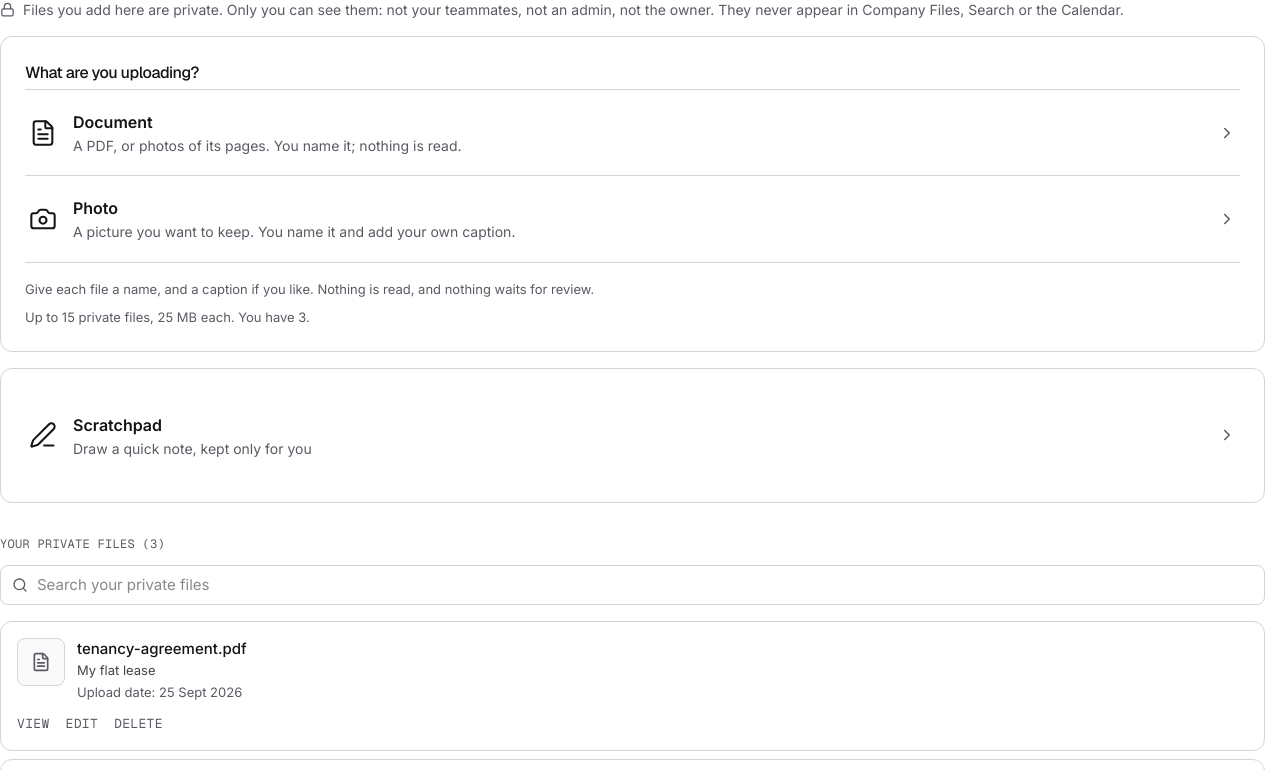
Only me: the files › a refused delete shows the server message and keeps the file in the list
Expected: the text "My flat lease" is shown, [77, 662, 156, 678]
Click the button "Delete": click(138, 724) [114, 714, 163, 734]
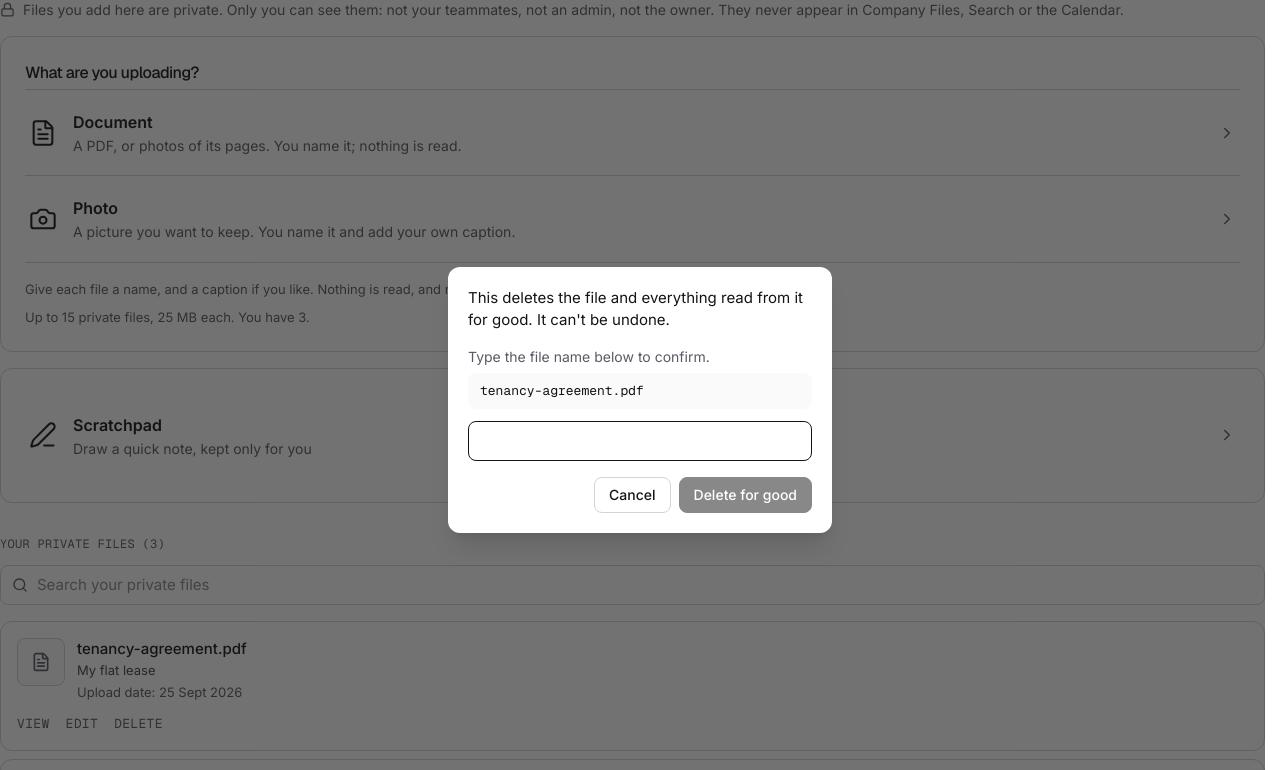
In the field named "File name": (640, 441) [468, 421, 812, 461], type "tenancy-agreement.pdf"
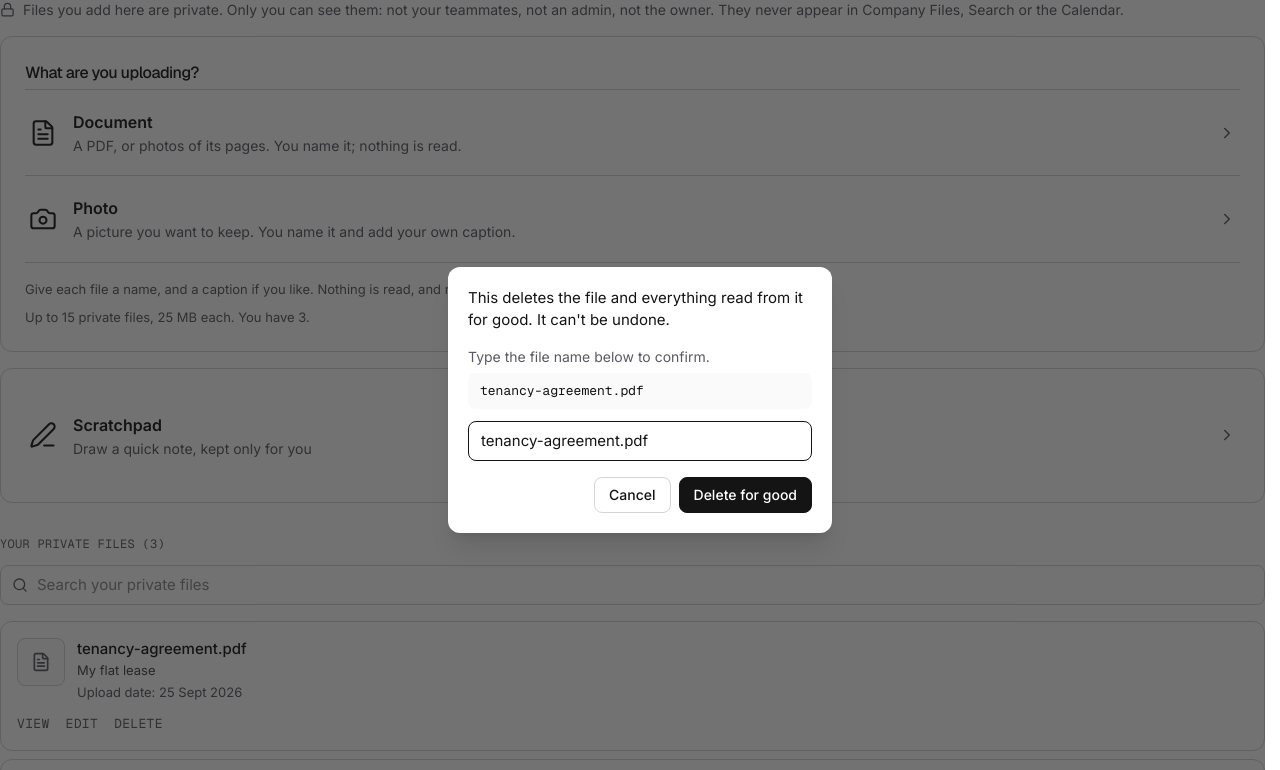
Click the button "Delete for good": click(745, 495) [678, 477, 812, 513]
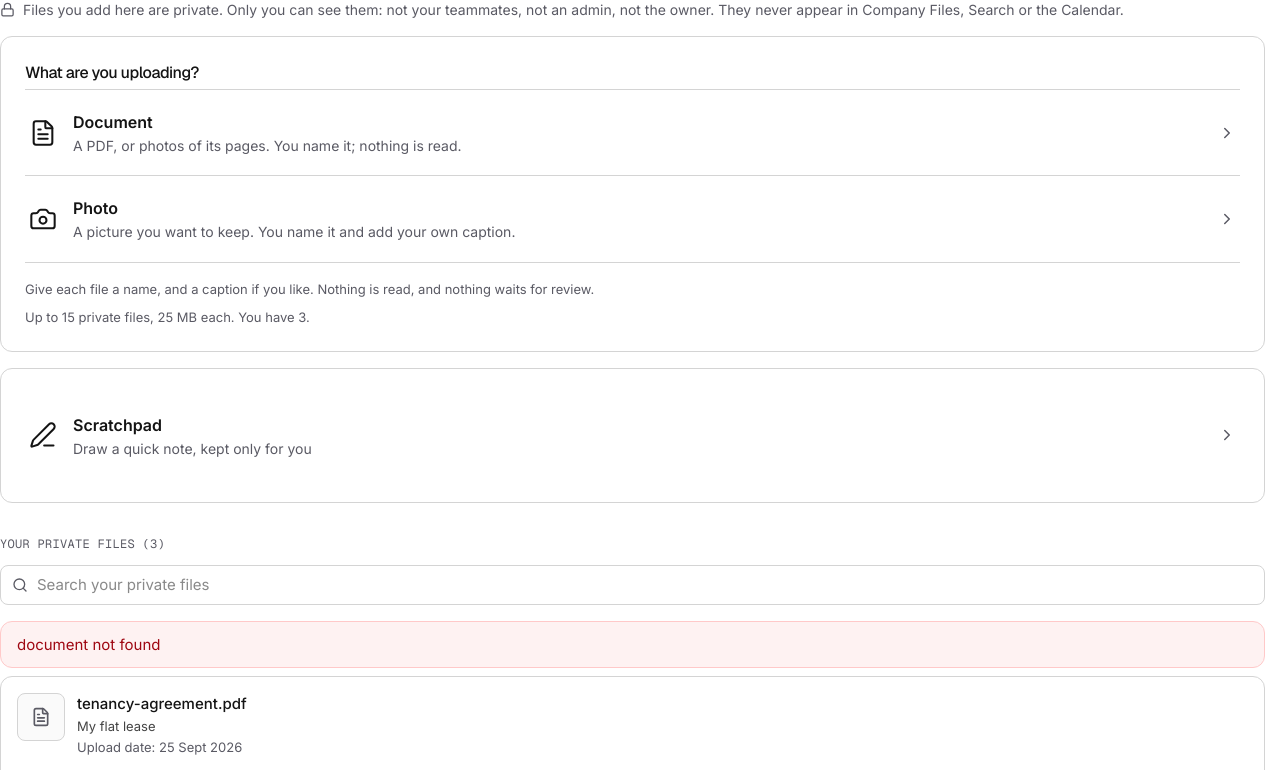
Expected: the text "My flat lease" is shown, [77, 718, 156, 734]
Expected: the message "document not found" is shown, [0, 621, 1265, 668]
